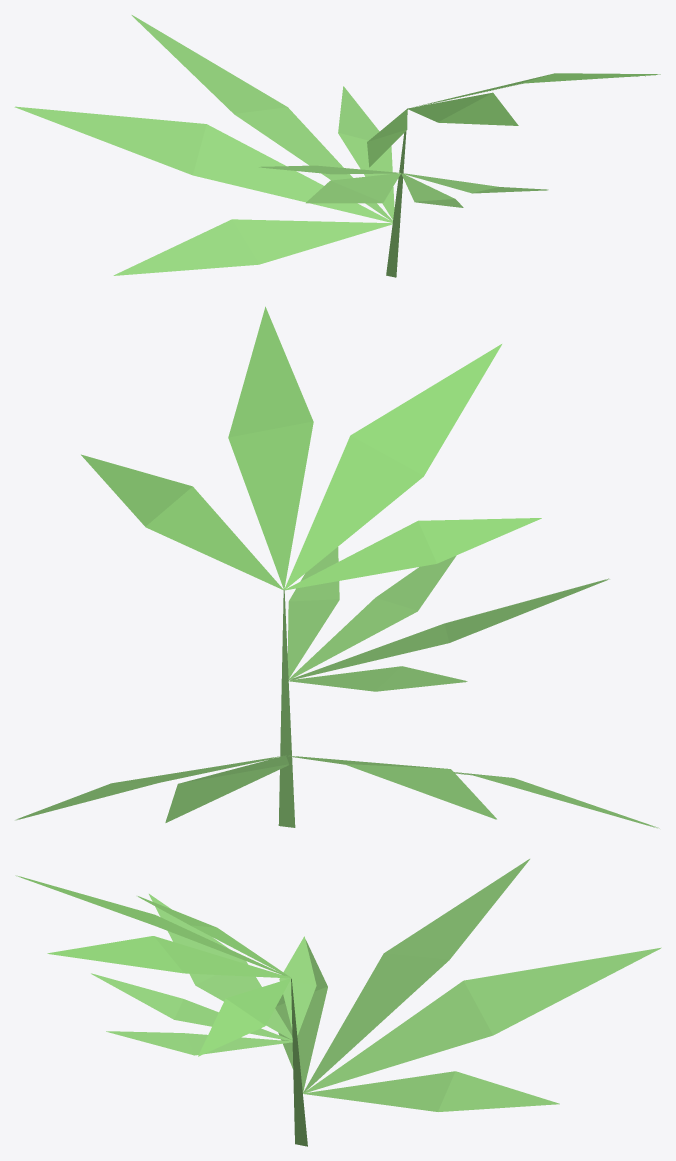
The model's file is Plant_i_TwoS_10.fbx.
The picture shows the model from 3 angles, top to bottom: view 1: azimuth 30°, elevation 25°; view 2: azimuth 150°, elevation 25°; view 3: azimuth 270°, elevation 25°; orthographic projection. The views are drawn at different scales.
Parts seen in each view (by area): view 1: Plant_i_TwoS_10; view 2: Plant_i_TwoS_10; view 3: Plant_i_TwoS_10.
Part boxes in pixels (<box>): Plant_i_TwoS_10: <box>14,15,660,277</box>; Plant_i_TwoS_10: <box>15,306,659,828</box>; Plant_i_TwoS_10: <box>15,859,661,1146</box>.
Size of the model in its own units: 19.2 by 9.77 by 21.91.
